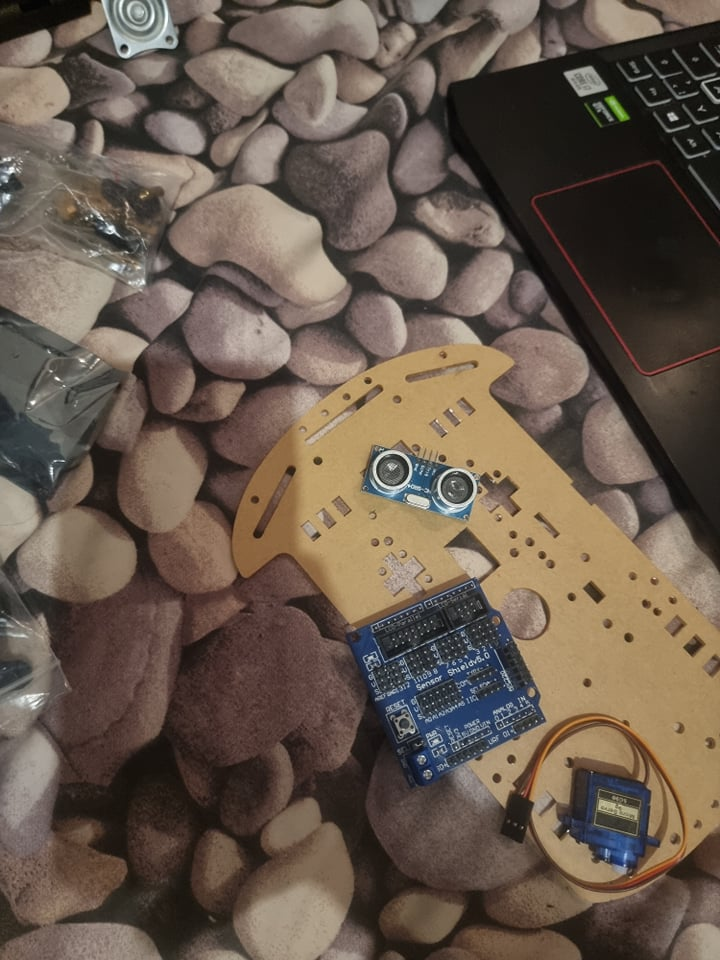5V EXPANSION: (343, 578, 547, 786)
SENSOR: (363, 444, 479, 525)
